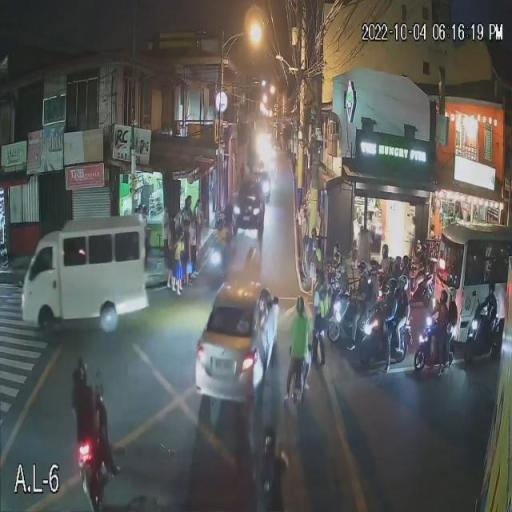helmet: (257, 428, 282, 456), (71, 362, 92, 388), (296, 296, 308, 316), (382, 279, 396, 293), (486, 282, 498, 298), (396, 276, 409, 290), (332, 254, 343, 269), (436, 291, 448, 304), (357, 259, 369, 271), (368, 262, 379, 275), (215, 219, 226, 231), (419, 244, 430, 256), (448, 289, 459, 301), (400, 256, 409, 268), (381, 245, 389, 258), (394, 257, 400, 268)
motorcycle: (74, 397, 114, 512), (344, 319, 414, 369), (280, 340, 319, 406), (325, 298, 374, 346), (459, 308, 498, 368), (411, 314, 447, 378), (195, 236, 228, 290), (314, 280, 350, 310), (401, 274, 434, 306)
rider: (71, 358, 111, 472), (253, 440, 286, 512), (287, 306, 315, 390), (348, 262, 370, 350), (382, 274, 408, 348), (474, 282, 500, 356), (422, 290, 449, 358), (324, 253, 348, 316), (366, 262, 383, 349), (443, 288, 458, 366), (210, 219, 232, 262), (412, 247, 430, 296), (374, 246, 394, 273)
